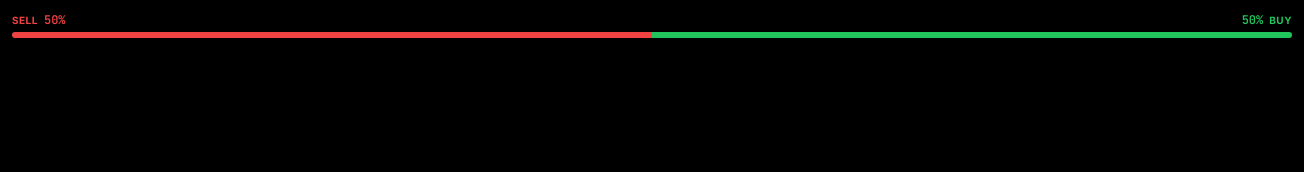
Test: Daily Plan market sentiment slider › raises bearish percentage on the green/right side and bullish percentage on the red/left side
Later steps or results of the test are not shown.
Press the mouse on the slider named "Market sentiment": (652, 35) [12,32,1292,38]
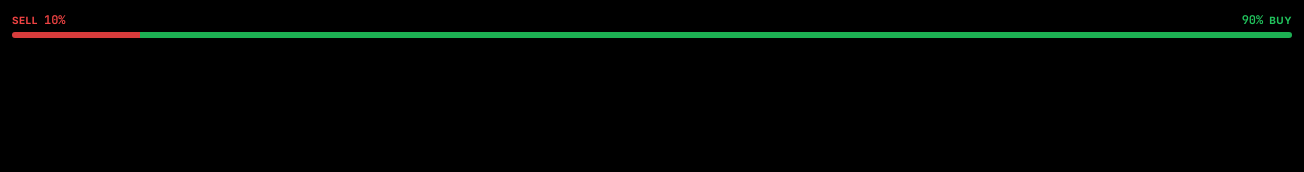
Now the slider named "Market sentiment" has attribute aria-valuetext="10% bearish, 90% bullish", box [12,32,1292,38]
